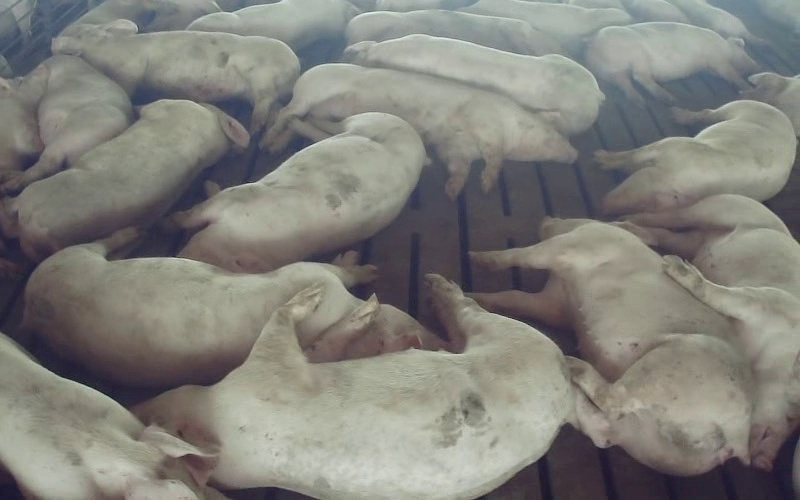pig: (134, 275, 574, 499), (473, 219, 749, 474), (23, 229, 375, 387), (628, 195, 799, 468), (265, 64, 576, 197), (0, 100, 248, 260), (174, 114, 425, 271), (52, 20, 299, 133), (345, 34, 603, 134), (595, 100, 796, 213), (12, 55, 131, 190), (585, 22, 756, 103), (345, 9, 562, 55), (462, 0, 632, 55)
